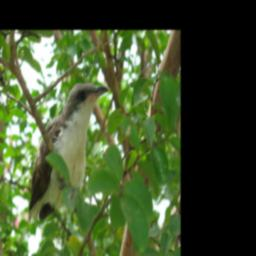Cuckoo: (27, 81, 108, 227)
